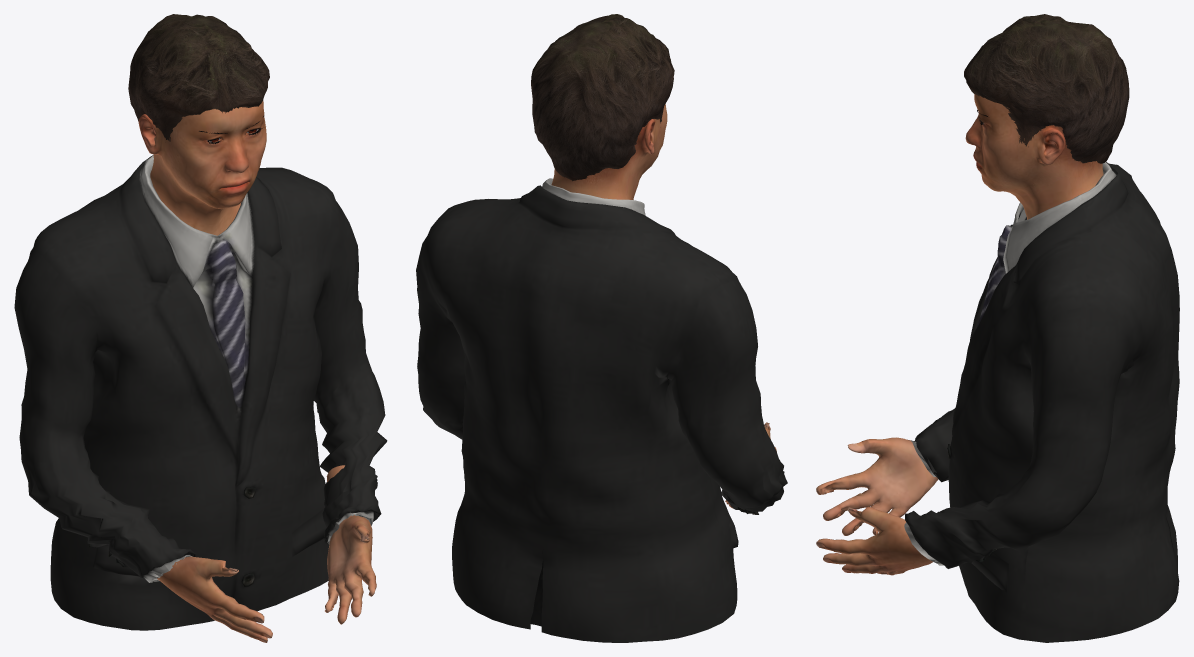
Rendered from m_old_as.glb.
3 views of the same model, side by side, from view 1: azimuth 30°, elevation 25°; view 2: azimuth 150°, elevation 25°; view 3: azimuth 270°, elevation 25° (orthographic).
Visible parts, largest first — view 1: Human.male_elegantsuit01, Human, Human.short02; view 2: Human.male_elegantsuit01, Human.short02, Human; view 3: Human.male_elegantsuit01, Human, Human.short02.
Part boxes in pixels (<box>): Human.male_elegantsuit01: <box>14,155,387,630</box>; Human: <box>138,100,376,642</box>; Human.short02: <box>128,14,269,141</box>; Human.male_elegantsuit01: <box>416,178,787,642</box>; Human.short02: <box>531,14,674,181</box>; Human: <box>551,104,776,508</box>; Human.male_elegantsuit01: <box>904,162,1179,642</box>; Human: <box>816,94,1103,575</box>; Human.short02: <box>964,14,1129,163</box>.
Bounding box in the file's own units: 0.5242 × 0.808 × 0.4789.
9 materials, 9 textured.
